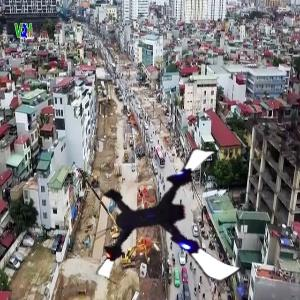drone: (94, 139, 246, 291)
